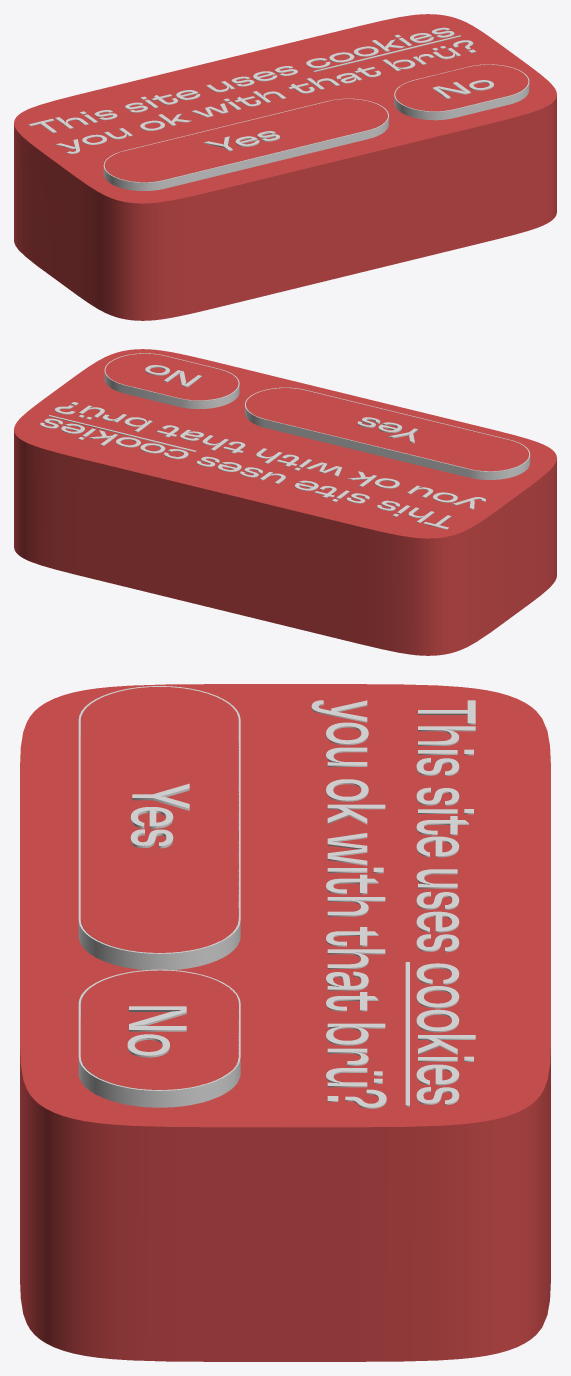
File: Cookies.glb
3 views of the same model, one above another, from view 1: azimuth 30°, elevation 25°; view 2: azimuth 150°, elevation 25°; view 3: azimuth 270°, elevation 25° (orthographic). The views are drawn at different scales.
Visible parts, largest first — view 1: Backing, YES, Copy, NO; view 2: Backing, YES, Copy, NO; view 3: Backing, YES, NO, Copy.
Boxes of the visible parts, x1,y1,x2,y2 form: Backing: (14,14,556,320); YES: (103,98,388,190); Copy: (28,27,476,153); NO: (394,64,529,120); Backing: (14,349,556,655); YES: (245,387,530,479); Copy: (40,402,485,529); NO: (104,353,239,408); Backing: (20,684,550,1361); YES: (78,686,240,969); NO: (78,969,240,1107); Copy: (311,700,475,1108).
Size of the model in its own units: 2.03 by 0.5408 by 1.03.
